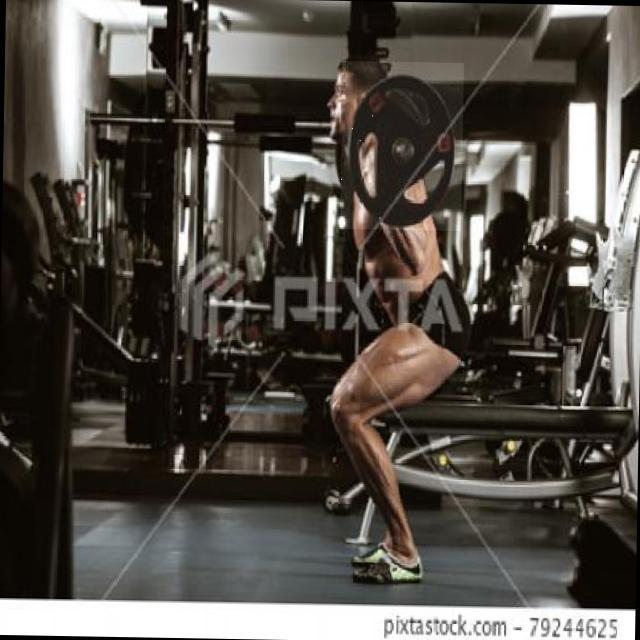barbell: (341, 62, 465, 232)
